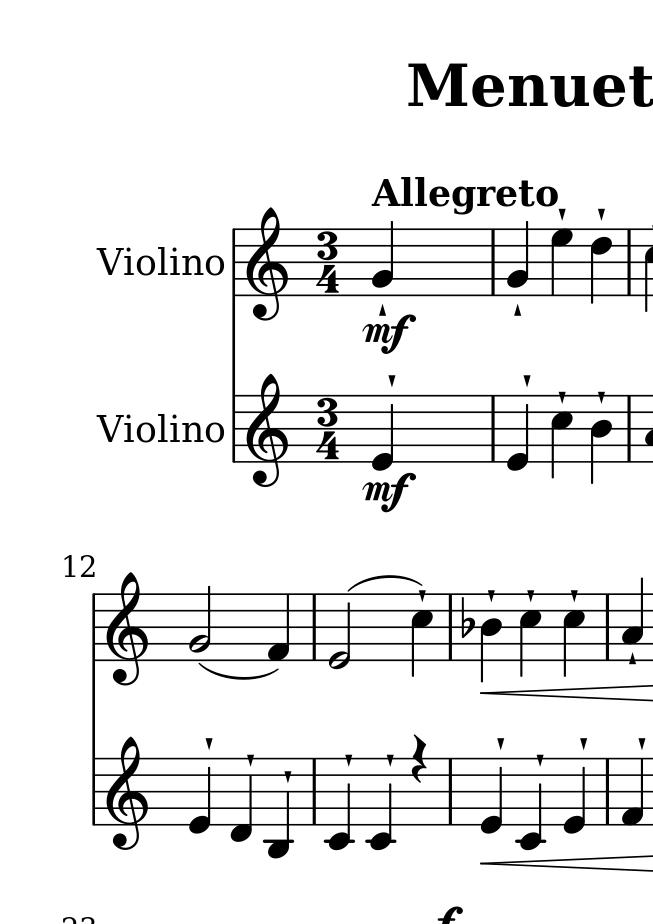1: (63, 553, 76, 579)
2: (78, 552, 96, 580)
2_0: (328, 591, 353, 674)
2_2: (187, 586, 213, 661)
3: (316, 395, 341, 427), (316, 228, 339, 261)
4: (314, 428, 341, 461), (314, 262, 340, 293)
4_-1: (228, 755, 254, 845)
4_-2: (324, 755, 355, 854), (516, 755, 546, 854), (367, 756, 395, 854)
4_-3: (264, 755, 293, 860)
4_0: (502, 393, 531, 471), (477, 757, 506, 835), (369, 394, 398, 472), (562, 755, 587, 837), (188, 755, 212, 838)
4_1: (265, 590, 293, 664), (620, 754, 645, 827)
4_2: (505, 219, 532, 297), (370, 220, 396, 298)
4_3: (619, 574, 645, 659)
4_4: (588, 393, 614, 486), (478, 591, 503, 685)
4_5: (546, 393, 575, 480), (560, 591, 587, 681), (516, 593, 543, 679), (410, 592, 436, 677)
4_6: (587, 226, 614, 304)
4_7: (549, 228, 576, 299)
Flat: (459, 595, 474, 638)
Gclef: (104, 735, 153, 850), (244, 372, 290, 491), (245, 205, 290, 323), (106, 571, 150, 685)
Rests4: (408, 733, 428, 784)
Single_barline: (86, 593, 102, 663), (600, 594, 616, 659), (227, 228, 242, 297), (599, 758, 614, 827), (227, 395, 242, 463), (87, 757, 101, 827), (622, 228, 636, 296), (443, 758, 457, 825), (486, 397, 500, 460), (623, 395, 636, 461), (308, 757, 320, 826), (486, 230, 499, 293)
Slur: (199, 661, 280, 680), (351, 575, 427, 592)
Staccatissimo: (511, 301, 525, 319), (494, 733, 506, 752), (203, 735, 215, 753), (567, 589, 581, 604), (534, 752, 546, 769), (485, 586, 496, 604), (524, 587, 537, 602), (376, 302, 388, 318), (580, 735, 590, 754), (385, 752, 396, 769), (521, 372, 533, 387), (627, 651, 637, 669), (244, 752, 256, 767), (557, 389, 568, 405), (342, 752, 353, 768), (417, 589, 429, 603), (637, 734, 646, 752), (596, 390, 606, 405), (387, 371, 396, 386), (282, 769, 292, 782)
TimeSig: (311, 394, 344, 460), (314, 229, 344, 296)
Vln: (96, 410, 226, 446), (96, 243, 225, 279)
mf: (361, 472, 418, 513), (362, 313, 418, 354)
